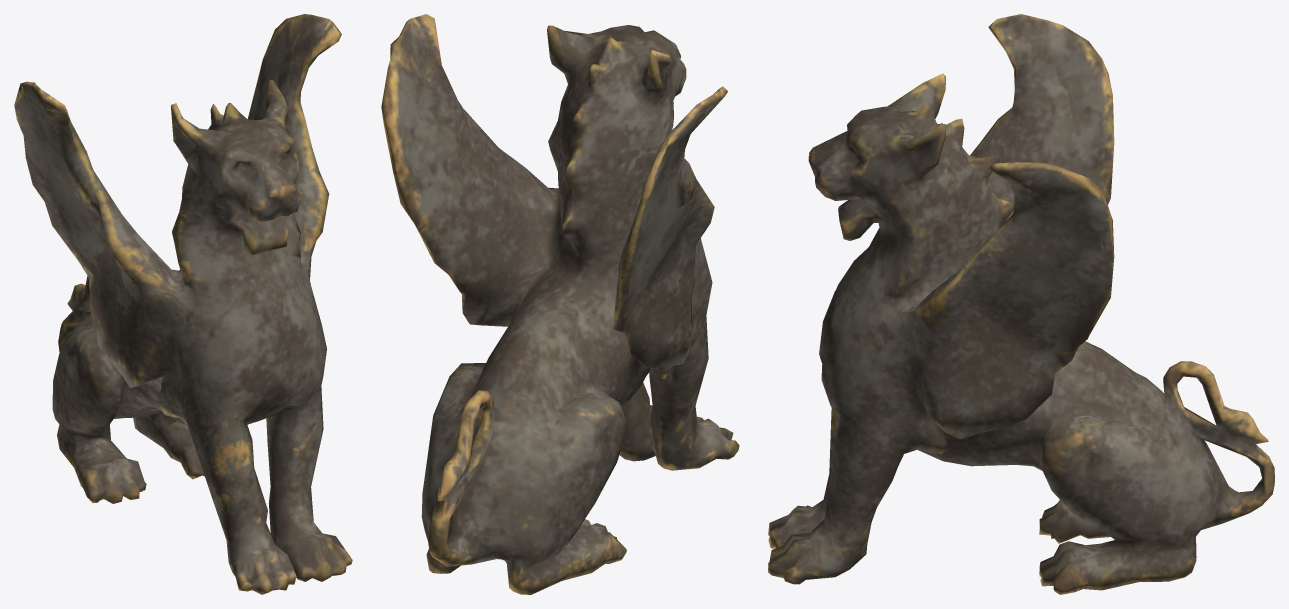
File: WingedLion_statue.fbx
3 views of the same model, side by side, from view 1: azimuth 30°, elevation 25°; view 2: azimuth 150°, elevation 25°; view 3: azimuth 270°, elevation 25° (orthographic). The views are drawn at different scales.
Parts seen in each view (by area): view 1: SM_WingedLion_LOD0; view 2: SM_WingedLion_LOD0; view 3: SM_WingedLion_LOD0.
Part boxes in pixels (left/top/right/bottom): SM_WingedLion_LOD0: left=14, top=14, right=352, bottom=594; SM_WingedLion_LOD0: left=381, top=14, right=739, bottom=594; SM_WingedLion_LOD0: left=768, top=14, right=1274, bottom=594.
Bounding box in the file's own units: 64.18 × 92.91 × 90.63.
